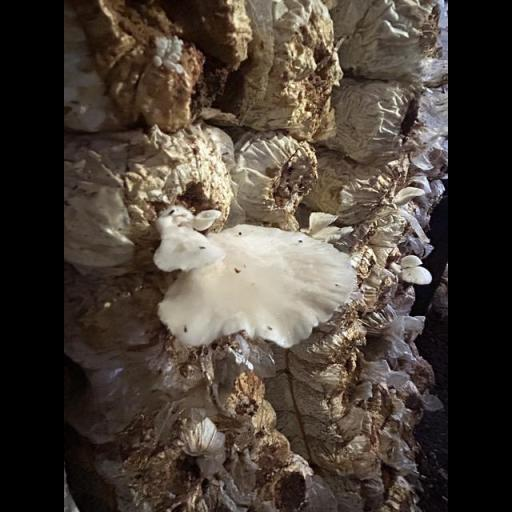White Oyster Mushroom: (150, 202, 374, 355)
